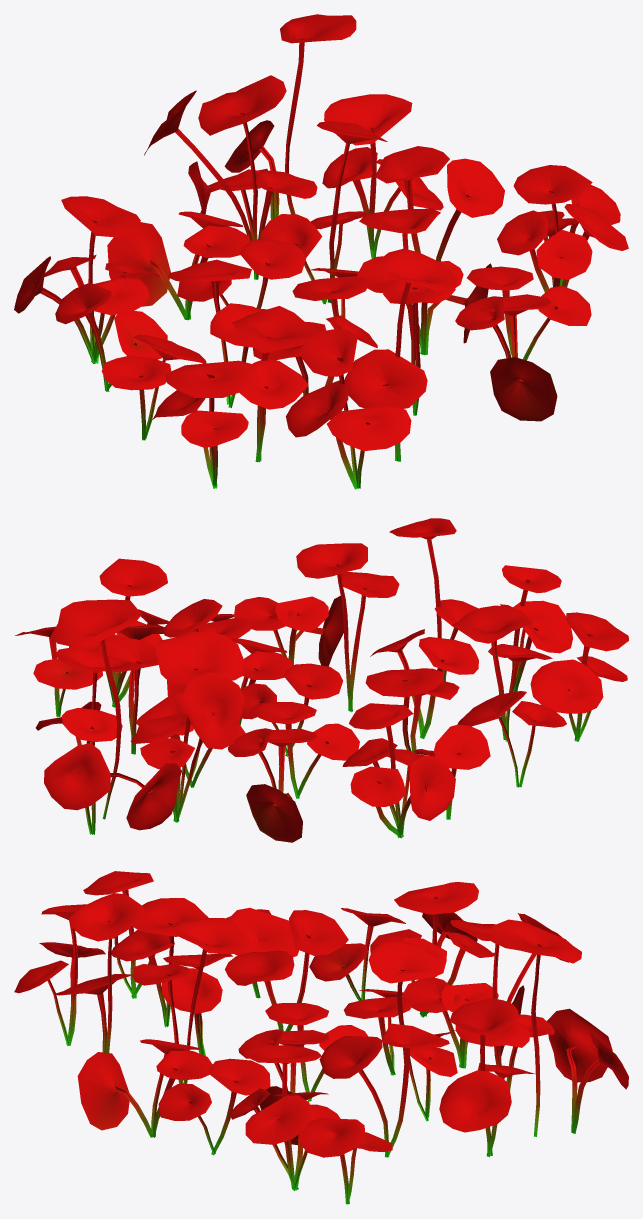
File: Native Violet_LOD2_Var1_ultkcfeja.fbx
3 views of the same model, one above another, from view 1: azimuth 30°, elevation 25°; view 2: azimuth 150°, elevation 25°; view 3: azimuth 270°, elevation 25° (orthographic). The views are drawn at different scales.
Parts seen in each view (by area): view 1: _vtng_Var1_LOD2; view 2: _vtng_Var1_LOD2; view 3: _vtng_Var1_LOD2.
Boxes of the visible parts, x1,y1,x2,y2 form: _vtng_Var1_LOD2: (14,14,628,489); _vtng_Var1_LOD2: (15,518,628,842); _vtng_Var1_LOD2: (14,871,628,1204).
Bounding box in the file's own units: 39.45 × 15.54 × 41.23.
